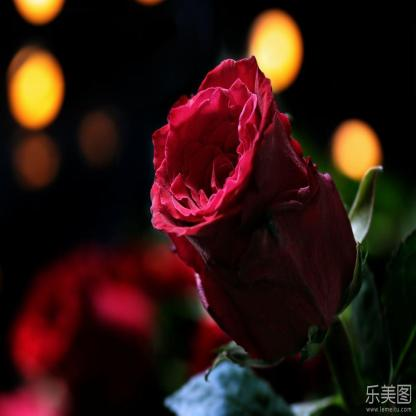other: (145, 89, 308, 227), (250, 21, 299, 92), (17, 54, 60, 123), (335, 121, 377, 176)
